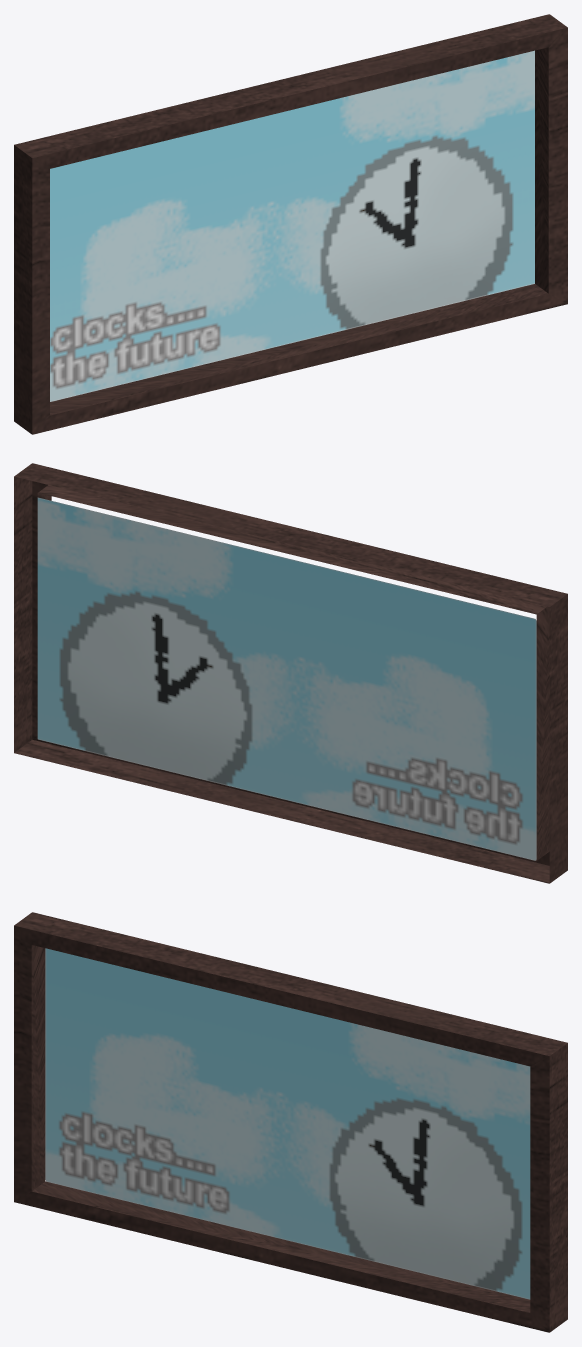
Rendered from poster 3.fbx.
The picture shows the model from 3 angles, top to bottom: view 1: azimuth 30°, elevation 25°; view 2: azimuth 150°, elevation 25°; view 3: azimuth 330°, elevation 25°; orthographic projection.
Parts seen in each view (by area): view 1: poster 3; view 2: poster 3; view 3: poster 3.
Part boxes in pixels (left/top/right/bottom): poster 3: left=14, top=14, right=567, bottom=434; poster 3: left=14, top=463, right=567, bottom=883; poster 3: left=14, top=912, right=567, bottom=1332.
Size of the model in its own units: 192 by 94.64 by 11.39.
